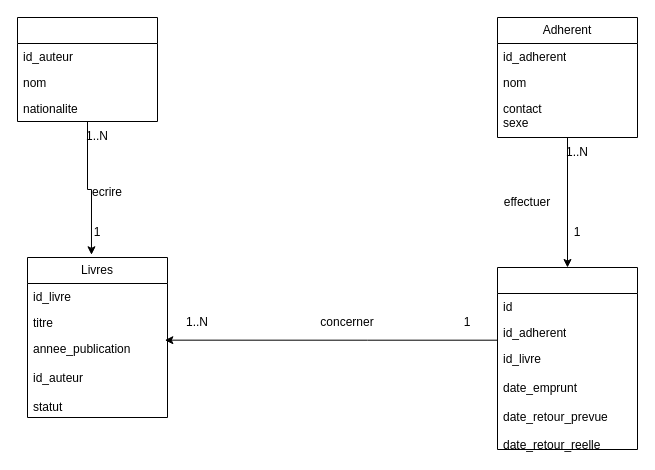
This 655x470 diagram has some shape labels left out. The box of each missing label's shape, as (x1, y1, x2, y2) in pixels:
Auteurs: (16, 16, 158, 122)
Emprunts: (496, 266, 638, 450)
